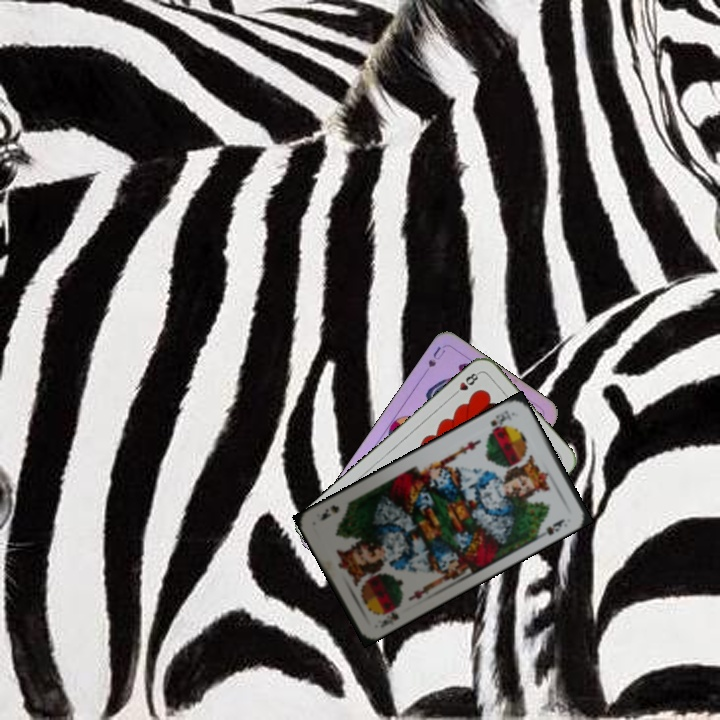H8: (449, 368, 482, 399)
SK: (376, 599, 404, 630), (486, 406, 514, 433)
SU: (424, 342, 448, 370)
